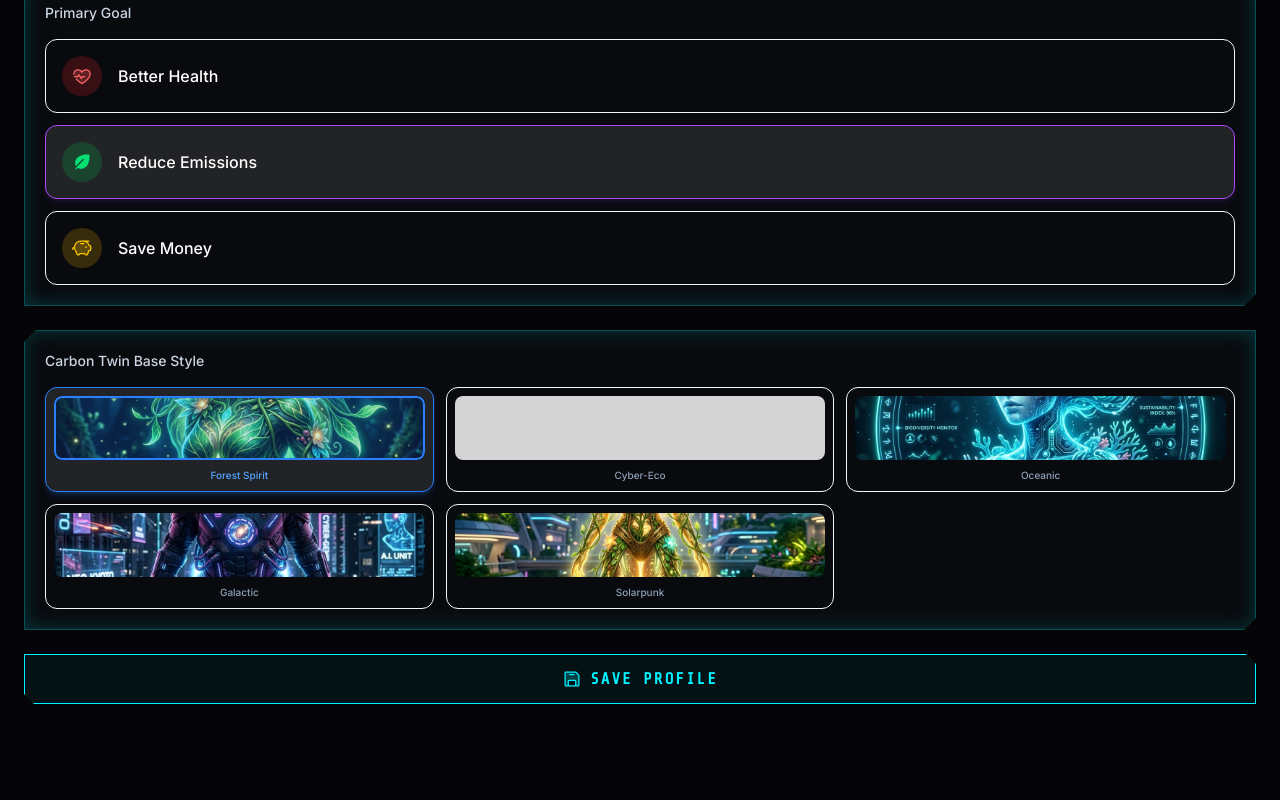
Test: Profile Page › can save profile
The width and height of the screenshot is (1280, 800).
(page scrolled)
Click the button "Save Profile". click: (640, 679)
box: [24,654,1256,704]
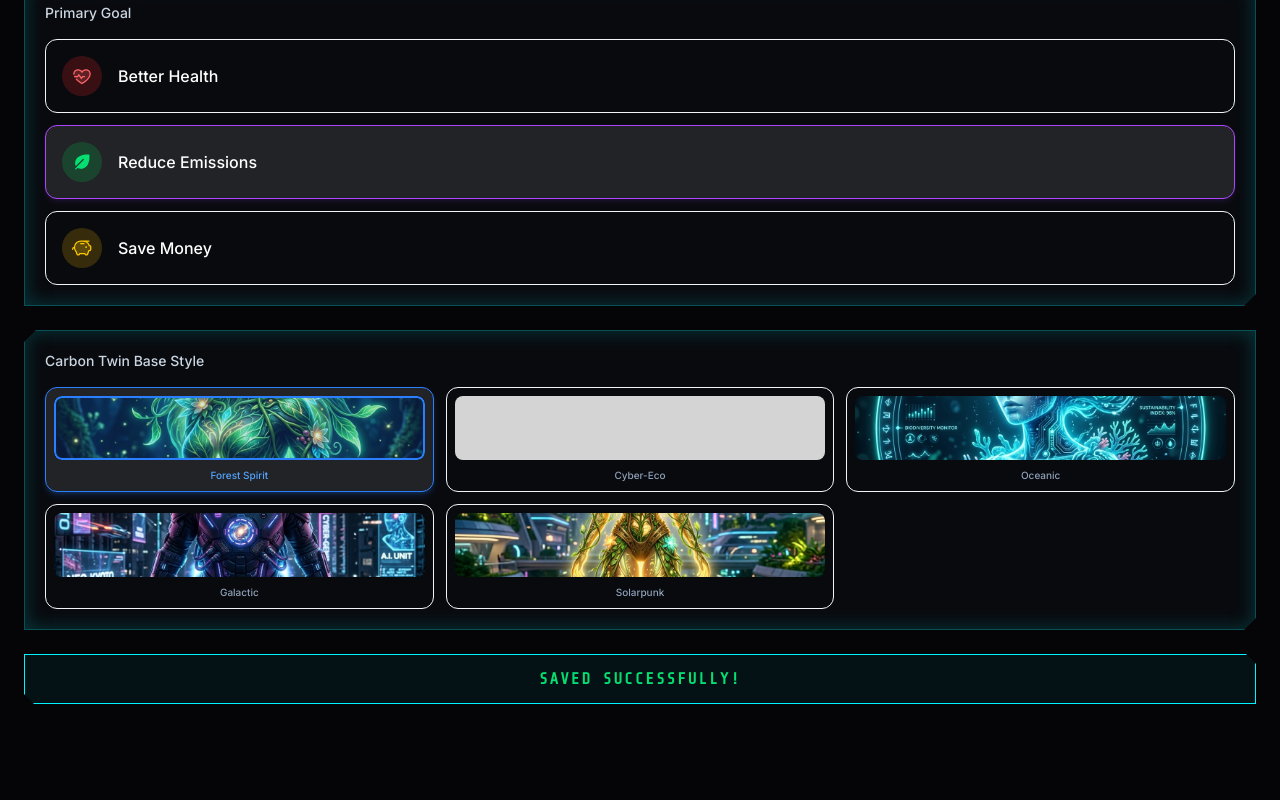
expect the text "Saved Successfully!" is shown: met, box [539,667,741,691]
